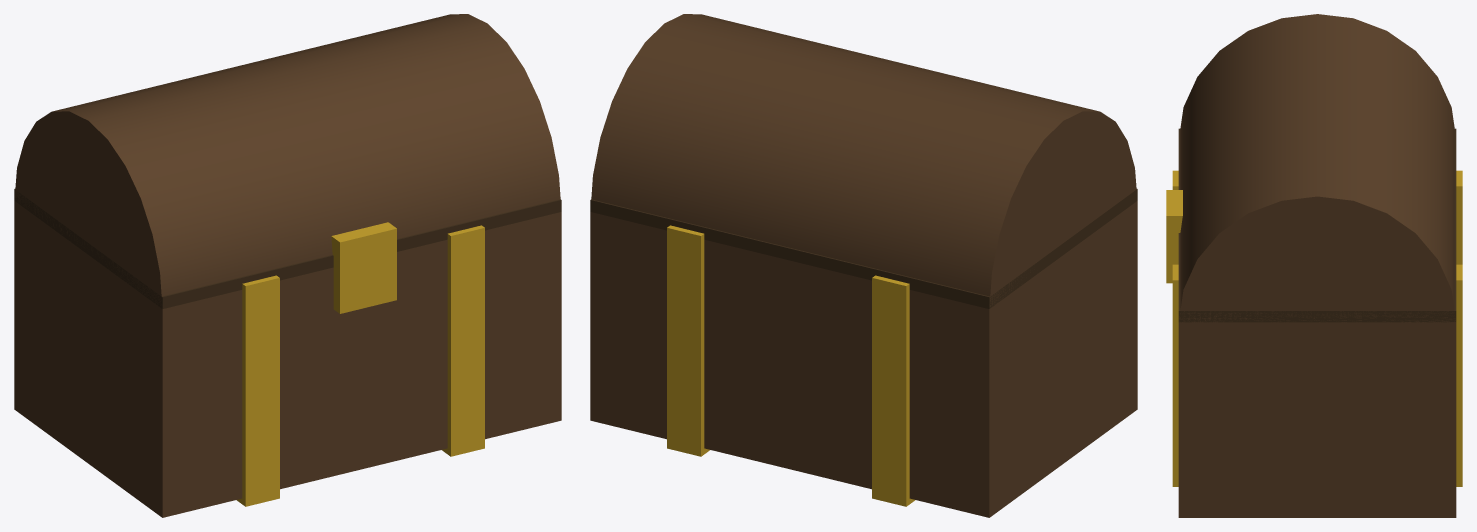
The model's file is chest.glb.
3 renders of one model, left to right at view 1: azimuth 30°, elevation 25°; view 2: azimuth 150°, elevation 25°; view 3: azimuth 270°, elevation 25°, orthographic. The views are drawn at different scales.
Size of the model in its own units: 0.7 by 0.585 by 0.48.
